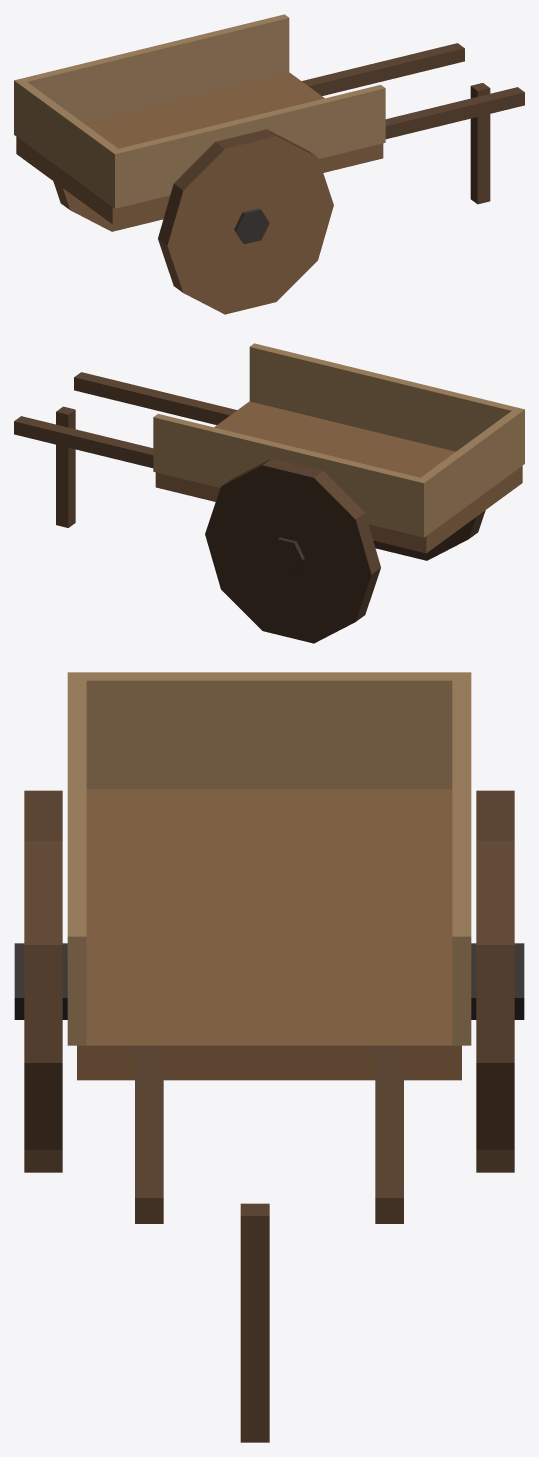
File: cart.glb
3 renders of one model, top to bottom at view 1: azimuth 30°, elevation 25°; view 2: azimuth 150°, elevation 25°; view 3: azimuth 270°, elevation 25°, orthographic. The views are drawn at different scales.
Parts seen in each view (by area): view 1: cart; view 2: cart; view 3: cart.
Boxes of the visible parts, bbox=[...] form: cart: bbox=[14, 14, 524, 314]; cart: bbox=[14, 343, 524, 643]; cart: bbox=[14, 672, 524, 1442].
Bounding box in the file's own units: 2.05 × 0.83 × 1.06.
